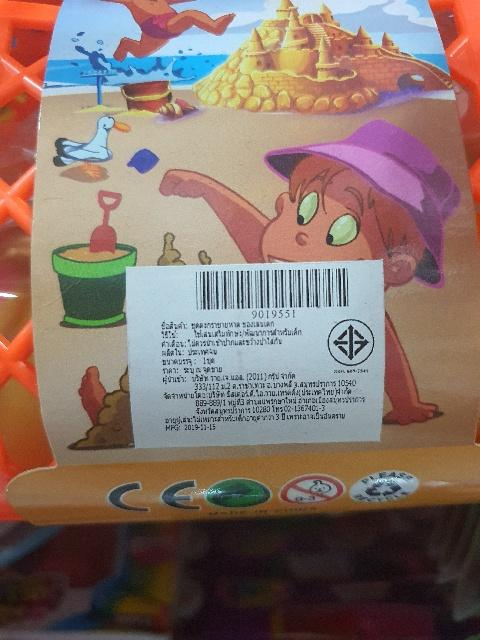Barcode: (188, 264, 357, 320)
